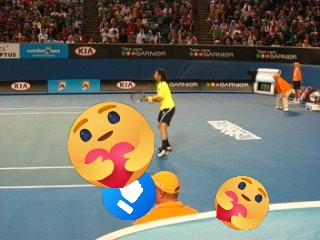care: (68, 102, 154, 188), (215, 176, 269, 230)
like: (102, 166, 156, 220)
